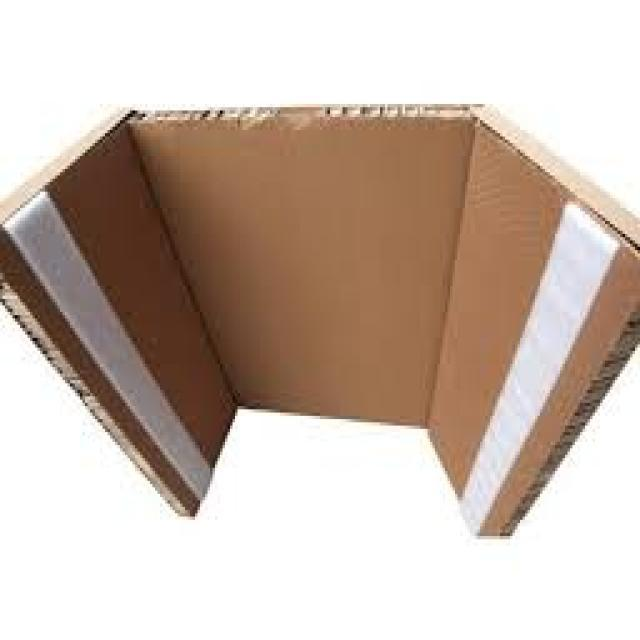Cardboard: (0, 101, 639, 544)
